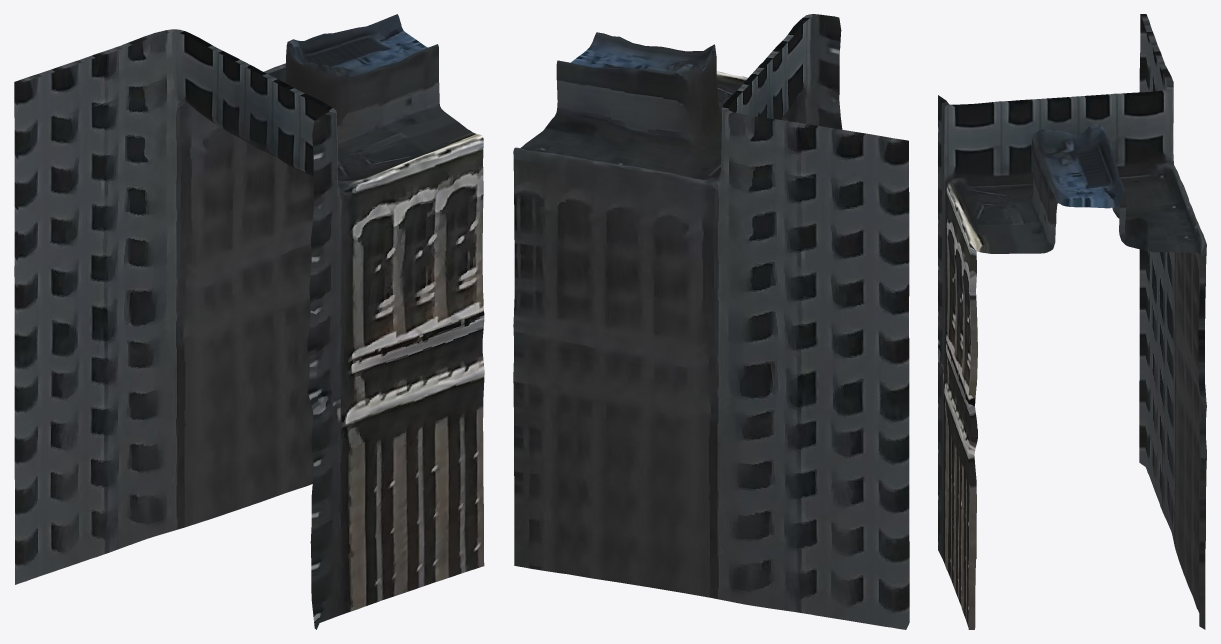
File: z20-167764-405238-h1-yup-uvflip-v3-world.glb
3 views of the same model, side by side, from view 1: azimuth 30°, elevation 25°; view 2: azimuth 150°, elevation 25°; view 3: azimuth 270°, elevation 25° (orthographic). The views are drawn at different scales.
Bounding box in the file's own units: 30.16 × 39.52 × 21.
Materials: 1 (1 with a texture image).
